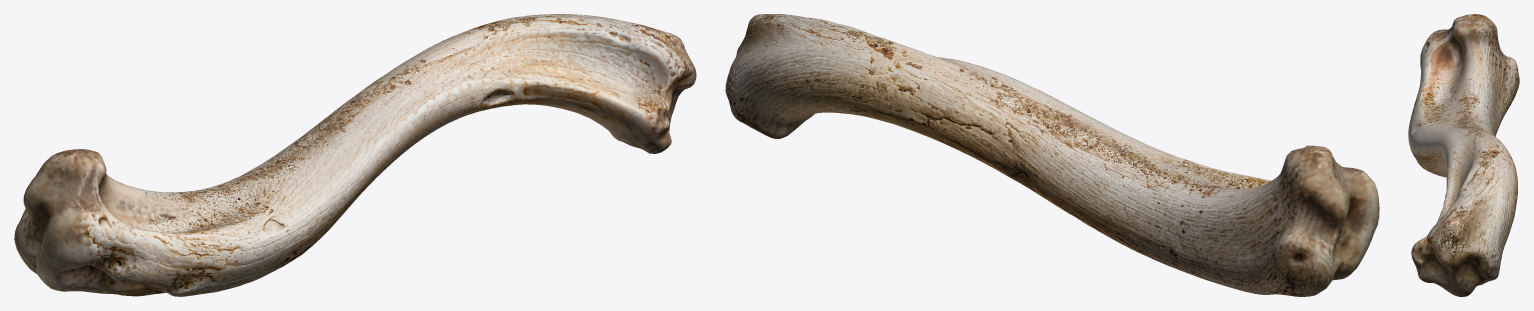
Rendered from BoneImports_Clavicle.fbx.
The picture shows the model from 3 angles, left to right: view 1: azimuth 30°, elevation 25°; view 2: azimuth 150°, elevation 25°; view 3: azimuth 270°, elevation 25°; orthographic projection. The views are drawn at different scales.
Visible parts, largest first — view 1: texture_mapping; view 2: texture_mapping; view 3: texture_mapping.
Boxes of the visible parts, x1,y1,x2,y2 form: texture_mapping: (14, 14, 696, 296); texture_mapping: (725, 14, 1379, 296); texture_mapping: (1408, 14, 1519, 296).
Bounding box in the file's own units: 1 × 0.2125 × 0.2529.
Materials: 1 (1 with a texture image).
